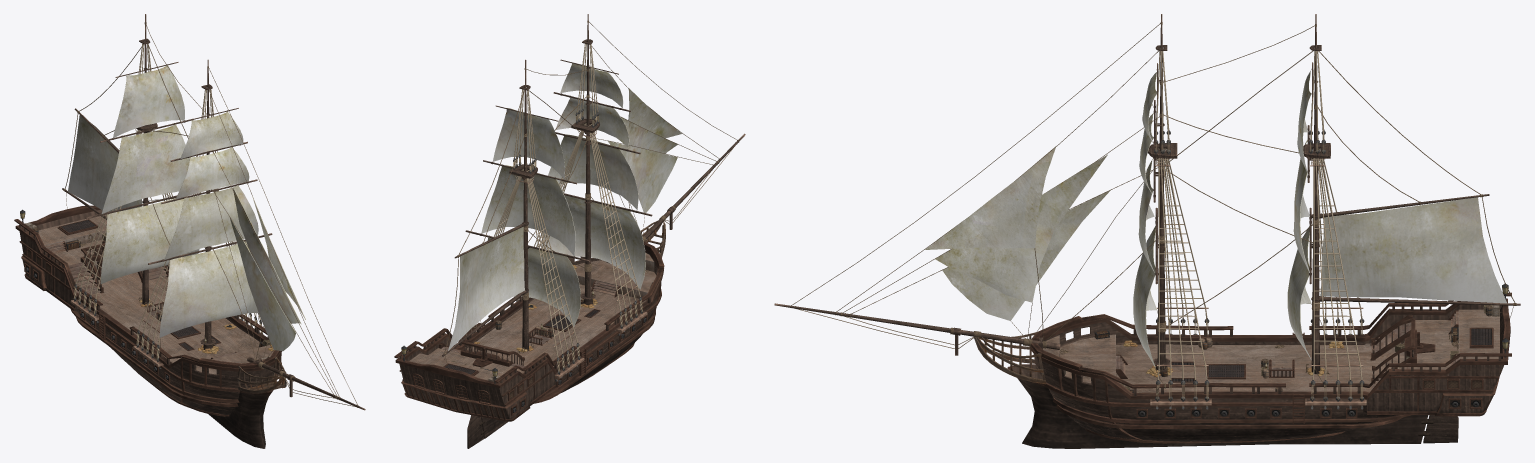
The model's file is Colonial Ship.FBX.
3 renders of one model, left to right at view 1: azimuth 30°, elevation 25°; view 2: azimuth 150°, elevation 25°; view 3: azimuth 270°, elevation 25°, orthographic. The views are drawn at different scales.
Visible parts, largest first — view 1: Sail_01, Sail_02, Jib_back_sails, Floor, Ship_Body, Rail, Rigs, Ropes, Ship_Fin, Mast_02, Staircase, Mast_01 (+4 smaller); view 2: Sail_01, Sail_02, Jib_back_sails, Ship_Body, Floor, Rigs, Rail, Mast_02, Mast_01, Ropes, Ship_Fin, Staircase (+4 smaller); view 3: Jib_back_sails, Ship_Body, Floor, Rigs, Rail, Ship_Fin, Ropes, Mast_02, Sail_01, Sail_02, Mast_01, Staircase (+3 smaller).
Part boxes in pixels (x1,y1,x2,y2): Sail_01: (159, 111, 258, 337); Sail_02: (101, 65, 199, 283); Jib_back_sails: (68, 115, 305, 351); Floor: (38, 214, 273, 374); Ship_Body: (15, 205, 281, 416); Rail: (14, 209, 281, 416); Rigs: (70, 43, 262, 368); Ropes: (38, 22, 358, 407); Ship_Fin: (98, 320, 281, 448); Mast_02: (62, 14, 193, 304); Staircase: (69, 243, 168, 295); Mast_01: (148, 59, 272, 349); Sail_01: (541, 63, 645, 289); Sail_02: (481, 108, 580, 326); Jib_back_sails: (448, 88, 682, 350); Ship_Body: (395, 248, 663, 419); Floor: (409, 253, 656, 380); Rigs: (461, 43, 647, 381); Rail: (394, 241, 664, 421); Mast_02: (442, 59, 589, 356); Mast_01: (553, 14, 652, 304); Ropes: (443, 21, 739, 368); Ship_Fin: (467, 289, 661, 448); Staircase: (438, 340, 525, 368); Jib_back_sails: (925, 146, 1506, 320); Ship_Body: (1030, 298, 1510, 441); Floor: (1043, 309, 1499, 392); Rigs: (1150, 47, 1366, 409); Rail: (1031, 292, 1511, 443); Ship_Fin: (1007, 364, 1458, 448); Ropes: (791, 22, 1516, 388); Mast_02: (1303, 14, 1520, 373); Sail_01: (1133, 72, 1156, 367); Sail_02: (1287, 69, 1311, 359); Mast_01: (1148, 14, 1177, 374); Staircase: (1370, 315, 1416, 389).
Bounding box in the file's own units: 99.24 × 267 × 421.
